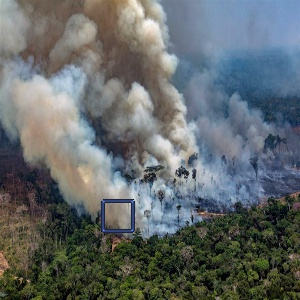square: (99, 198, 136, 234)
